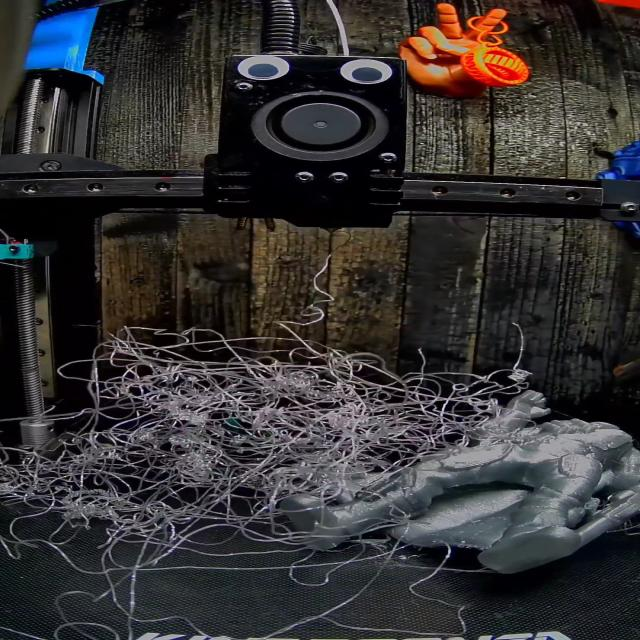spaghetti: (6, 310, 511, 557)
